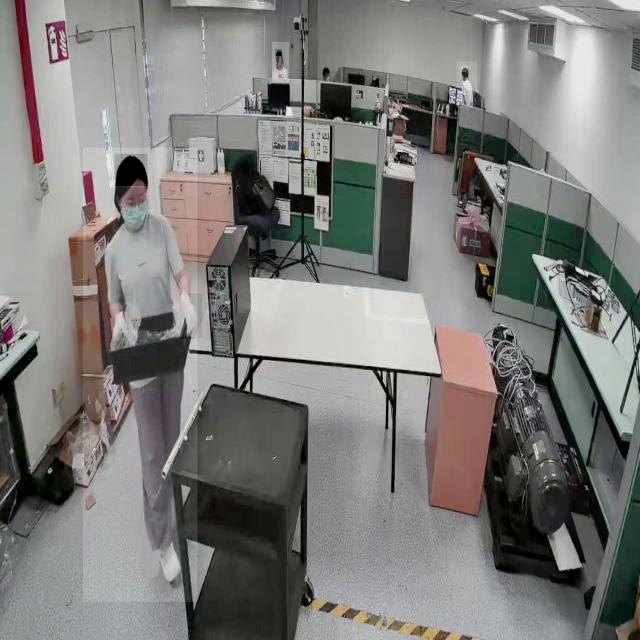face_mask: (115, 188, 149, 230)
glasses: (122, 194, 150, 220)
hand_glove: (180, 293, 202, 339), (108, 308, 130, 349)
head_nohelmet: (114, 154, 148, 186), (275, 49, 283, 57), (461, 66, 468, 73)
person: (83, 148, 198, 602), (456, 62, 478, 110), (272, 42, 290, 84)
